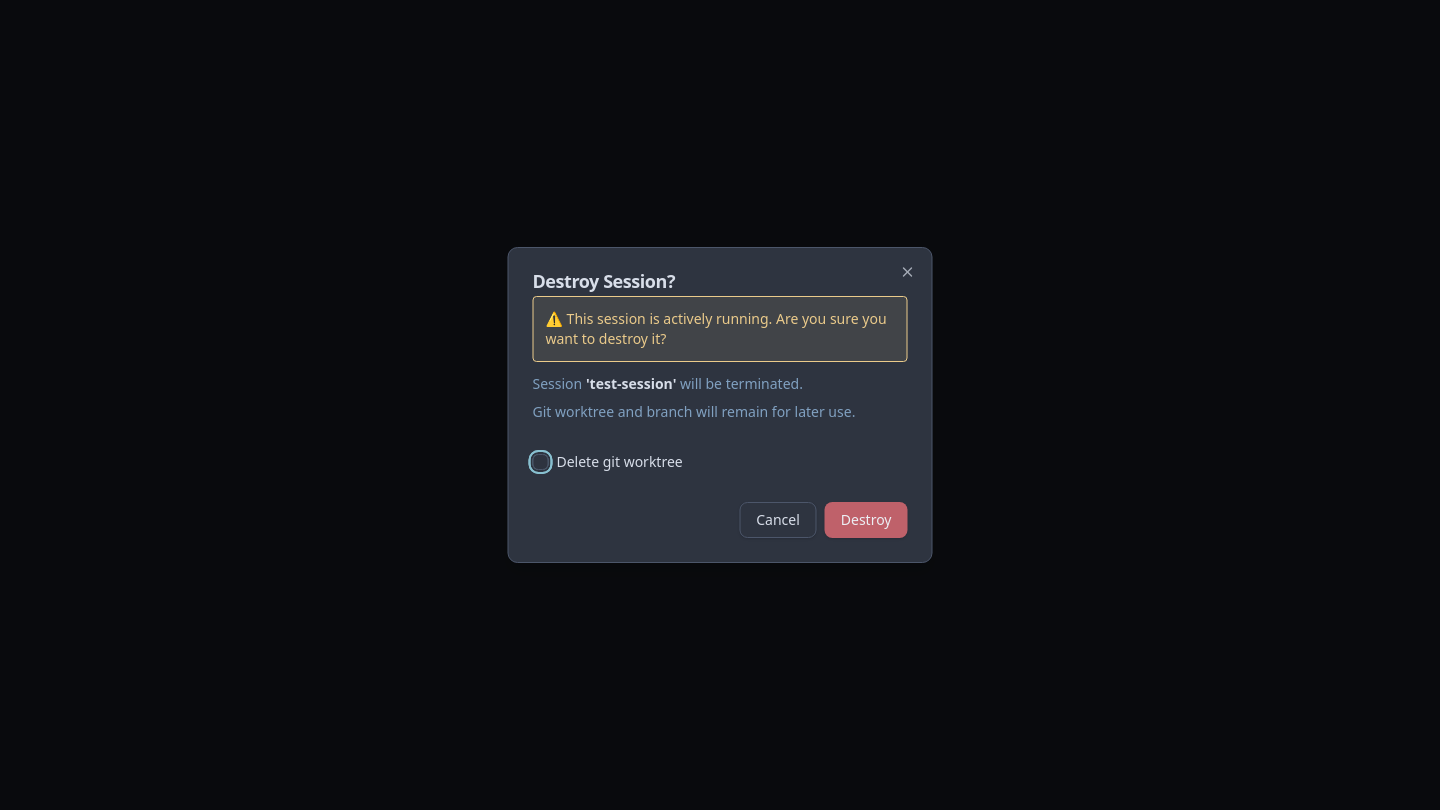
Test: SessionDestroyDialog › Story 4.18: Active session with worktree cleanup warning › should show both active session warning and worktree warning when active session with cleanup checked
Expected: the text "This session is actively running" is shown, [546,309,886,348]
// Check the worktree cleanup checkbox
Click the checkbox at (540, 462), box [532,454,548,470]
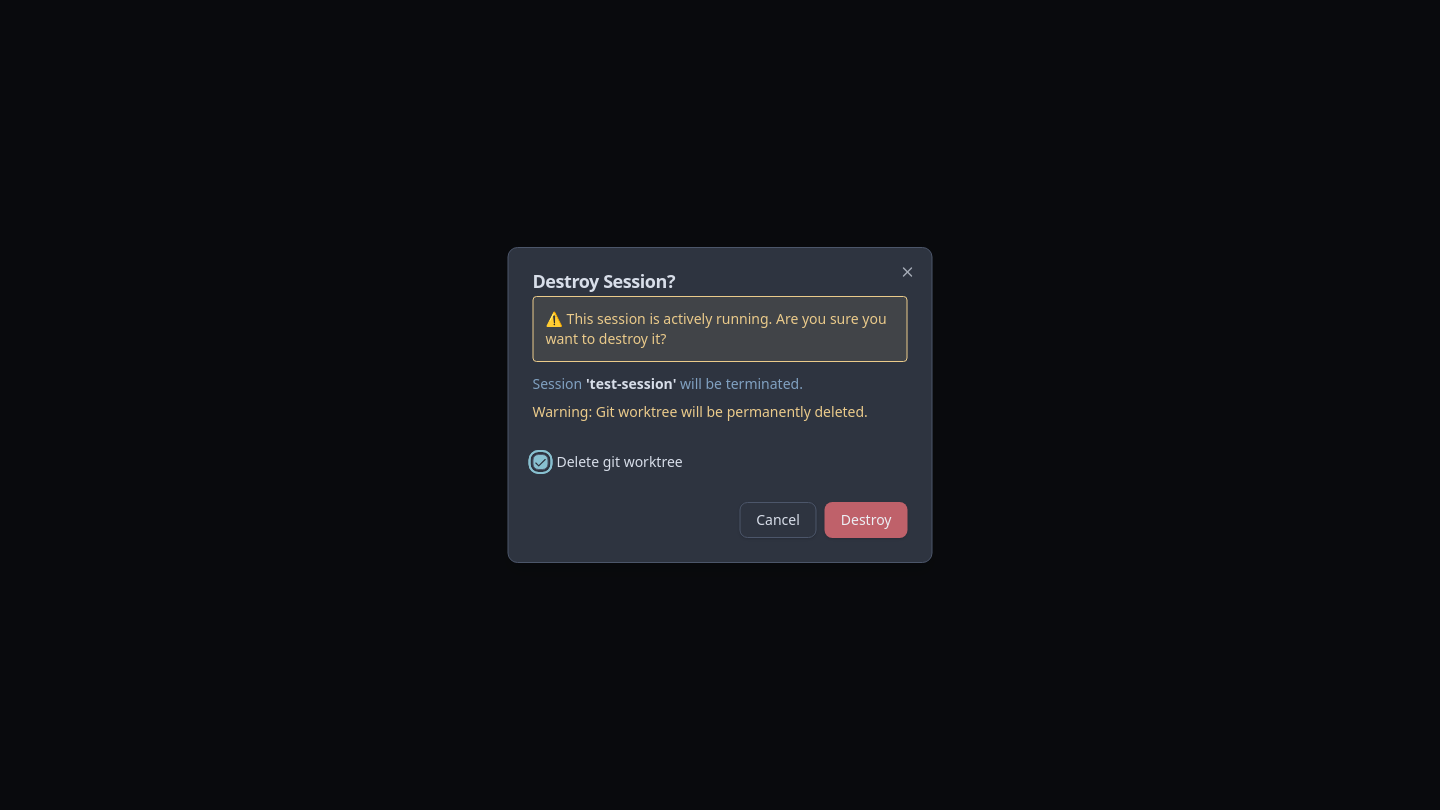
Expected: the text "This session is actively running" is shown, [546,309,886,348]
Result: the text "Warning: Git worktree will be permanently deleted." is shown at [532,402,908,422]
